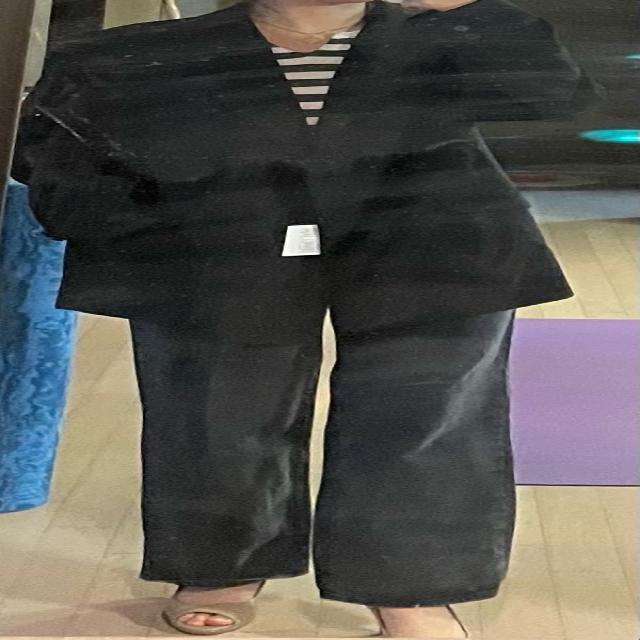blazer: (29, 0, 577, 341)
denimpants: (127, 222, 515, 606)
